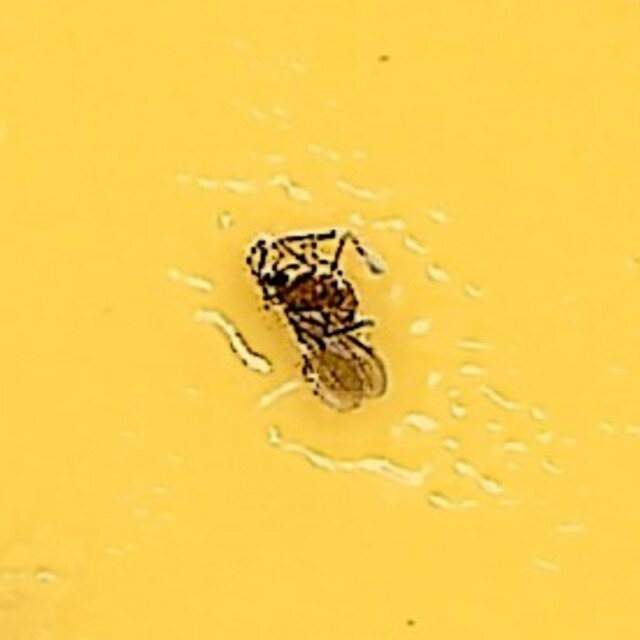Nematocera: (233, 215, 407, 425)
